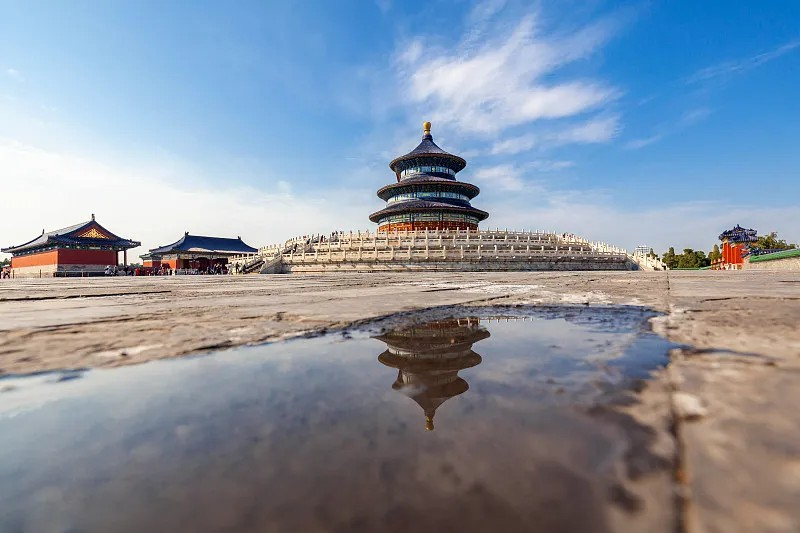Heaven: (369, 119, 489, 234)
